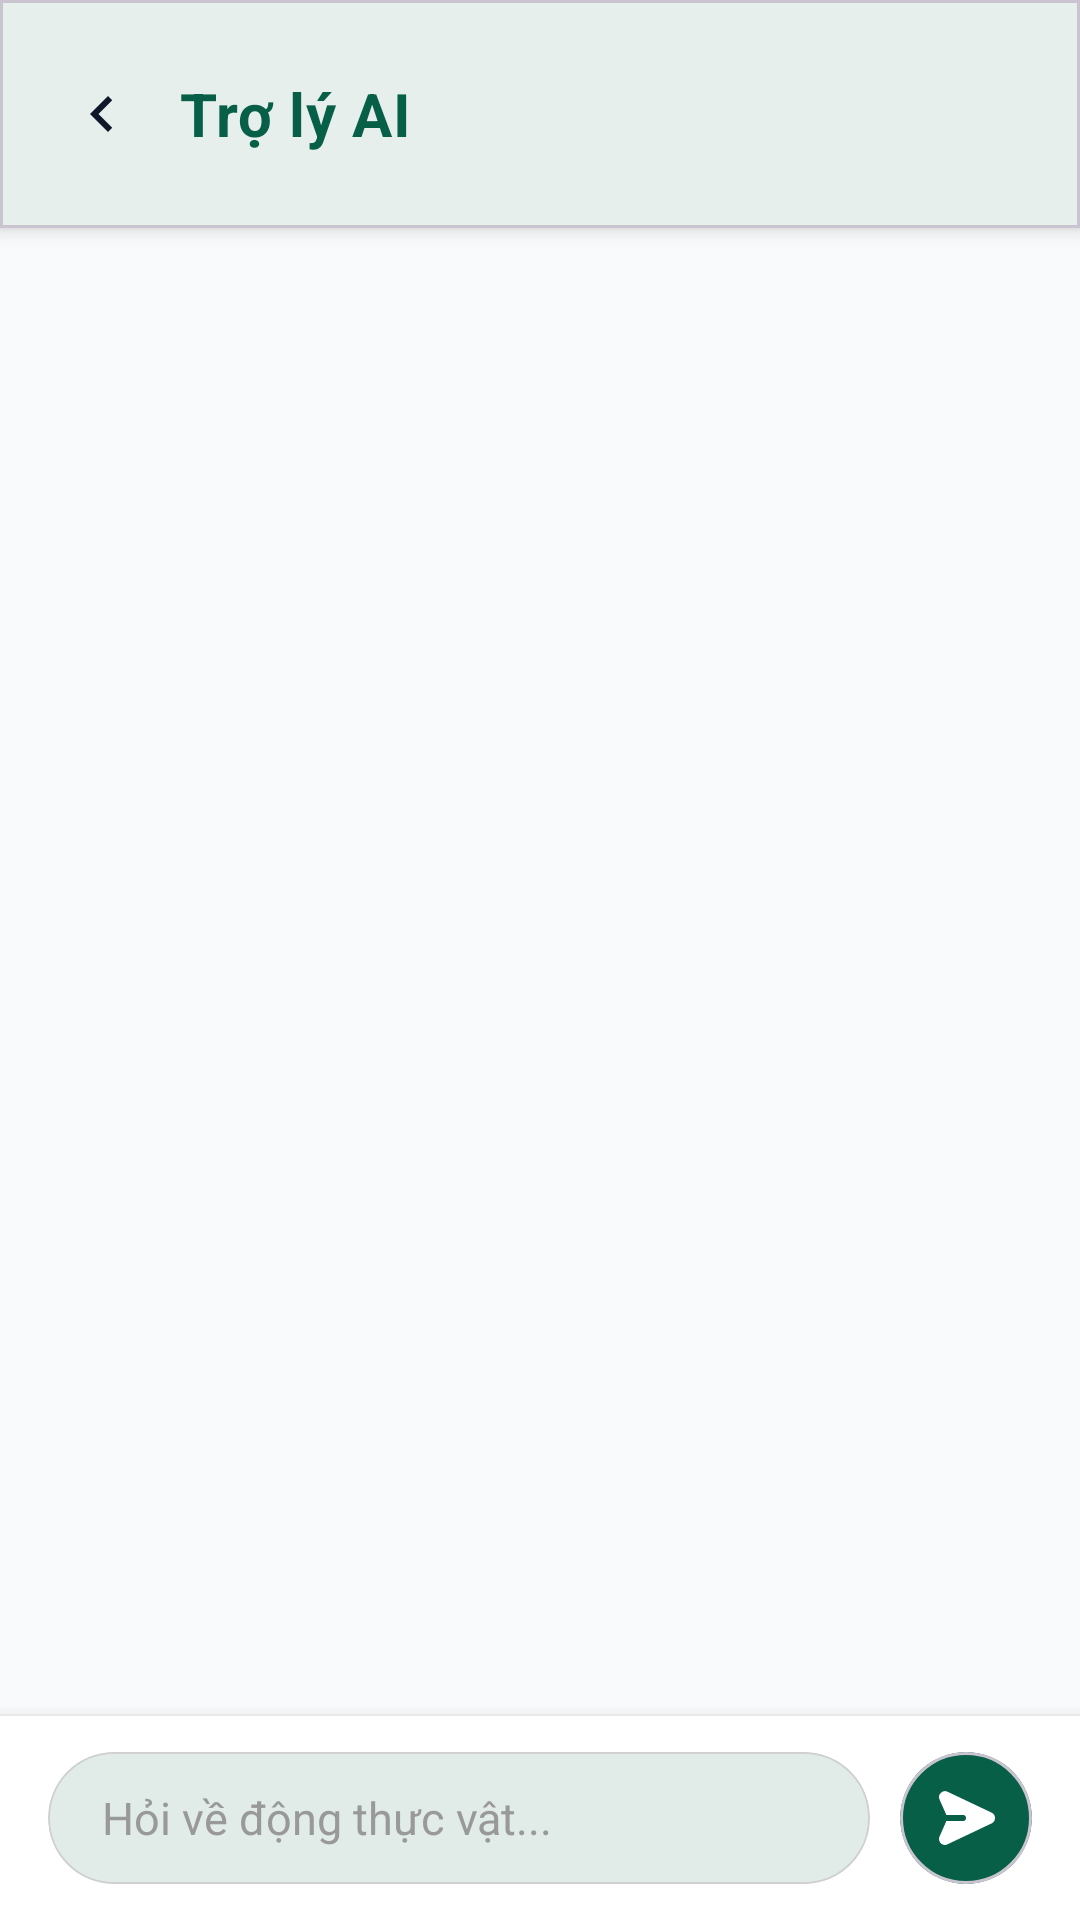

Locate icon controls on the screen. Image size 1080 × 1920, boxes as (left=x1, top=y1, right=x2, bottom=y2).
back: (left=90, top=96, right=112, bottom=132)
send: (left=900, top=1752, right=1032, bottom=1884)
